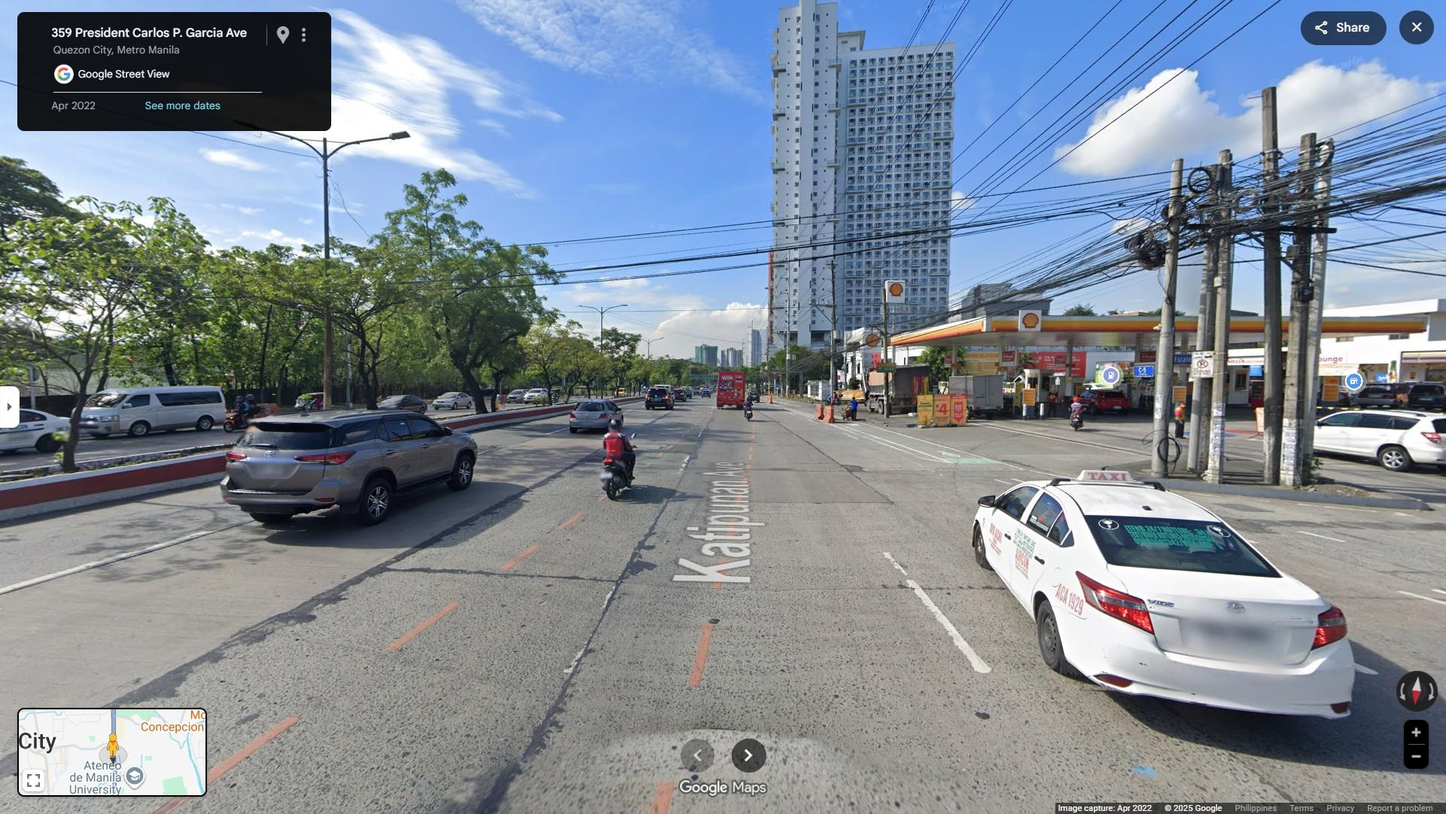pedestrian: (1173, 400, 1187, 440), (1047, 391, 1058, 418), (847, 396, 858, 421)
